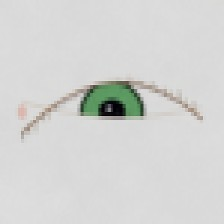pinguecula_lesion: (13, 95, 64, 136)
